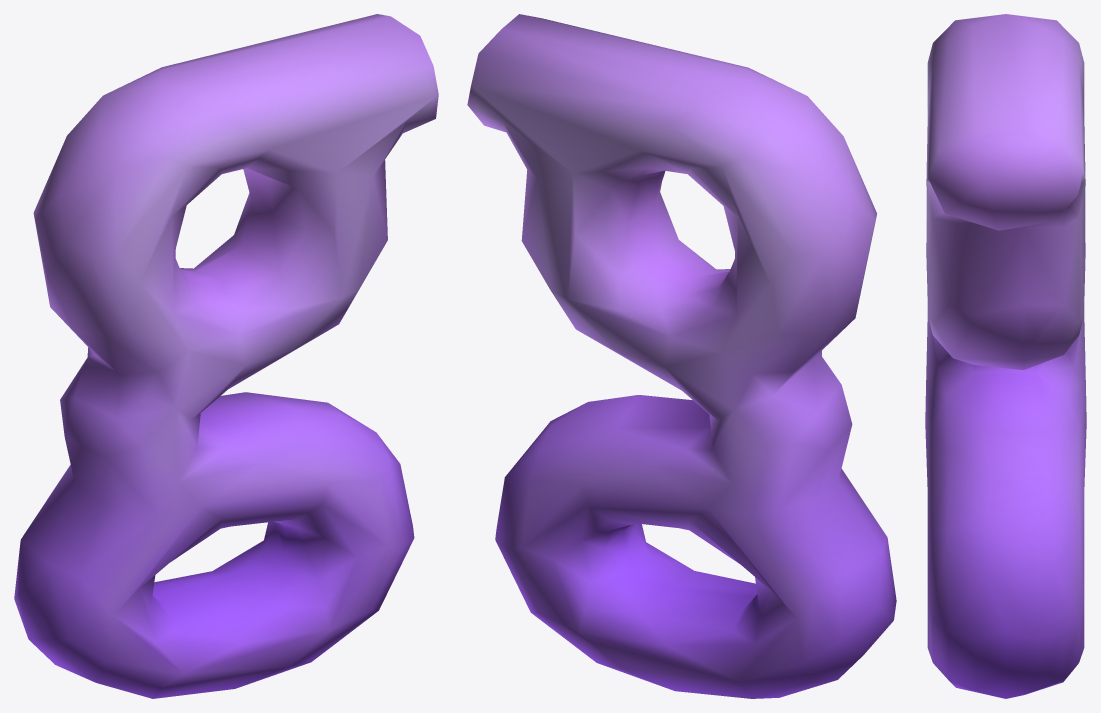
3 views of the same model, side by side, from view 1: azimuth 30°, elevation 25°; view 2: azimuth 150°, elevation 25°; view 3: azimuth 270°, elevation 25° (orthographic). The views are drawn at different scales.
Parts seen in each view (by area): view 1: Processed_Mesh0_Geometry; view 2: Processed_Mesh0_Geometry; view 3: Processed_Mesh0_Geometry.
Part boxes in pixels (bbox=[...]): Processed_Mesh0_Geometry: bbox=[14, 14, 438, 698]; Processed_Mesh0_Geometry: bbox=[467, 14, 896, 698]; Processed_Mesh0_Geometry: bbox=[925, 14, 1086, 698].
Size of what is drawn, in the model's own units: 0.0561 by 0.0836 by 0.0195.
Materials: 1 (1 with a texture image).
